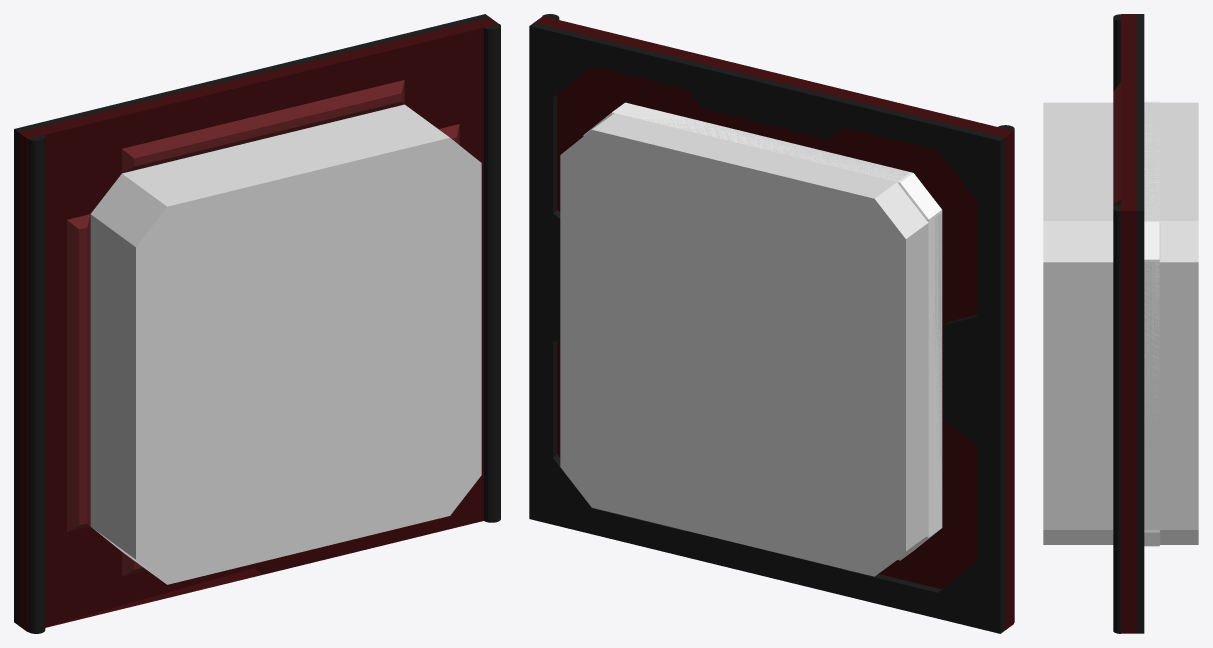
Rendered from Small_Wall_Window.glb.
3 views of the same model, side by side, from view 1: azimuth 30°, elevation 25°; view 2: azimuth 150°, elevation 25°; view 3: azimuth 270°, elevation 25° (orthographic). The views are drawn at different scales.
Visible parts, largest first — view 1: Window_Opening, Window_Wall, Cylinder, Small_Interior.001, Extruded_Complete; view 2: Window_Opening, Extruded_Complete, Window_Wall, Window; view 3: Window_Opening, Window_Wall, Extruded_Complete, Cylinder, Window, Small_Interior.001.
Boxes of the visible parts, bbox=[...] form: Window_Opening: bbox=[90, 104, 481, 584]; Window_Wall: bbox=[18, 17, 498, 631]; Cylinder: bbox=[28, 24, 500, 633]; Small_Interior.001: bbox=[67, 80, 459, 576]; Extruded_Complete: bbox=[14, 14, 489, 625]; Window_Opening: bbox=[560, 113, 942, 576]; Extruded_Complete: bbox=[529, 23, 1004, 633]; Window_Wall: bbox=[534, 16, 1013, 630]; Window: bbox=[583, 102, 942, 560]; Window_Opening: bbox=[1043, 102, 1198, 544]; Window_Wall: bbox=[1121, 14, 1136, 633]; Extruded_Complete: bbox=[1136, 14, 1144, 633]; Cylinder: bbox=[1113, 14, 1120, 633]; Window: bbox=[1144, 101, 1160, 546]; Small_Interior.001: bbox=[1113, 82, 1120, 206].
Bounding box in the file's own units: 6.01 × 6 × 2.
